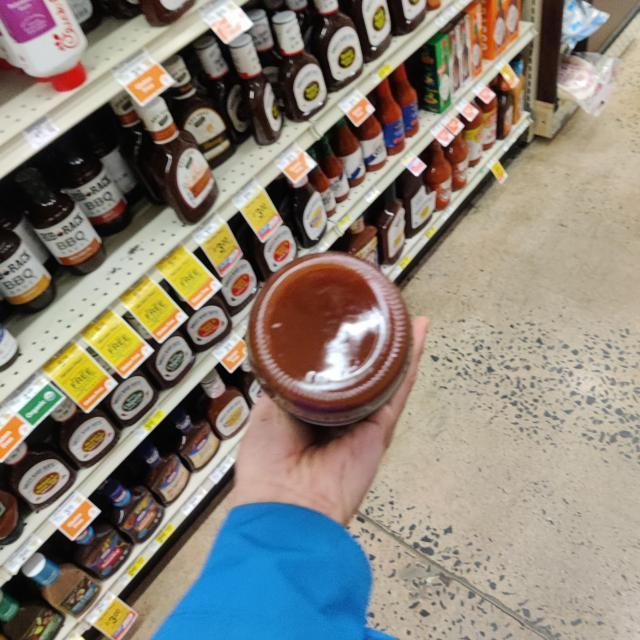Sauce: (234, 250, 423, 433)
